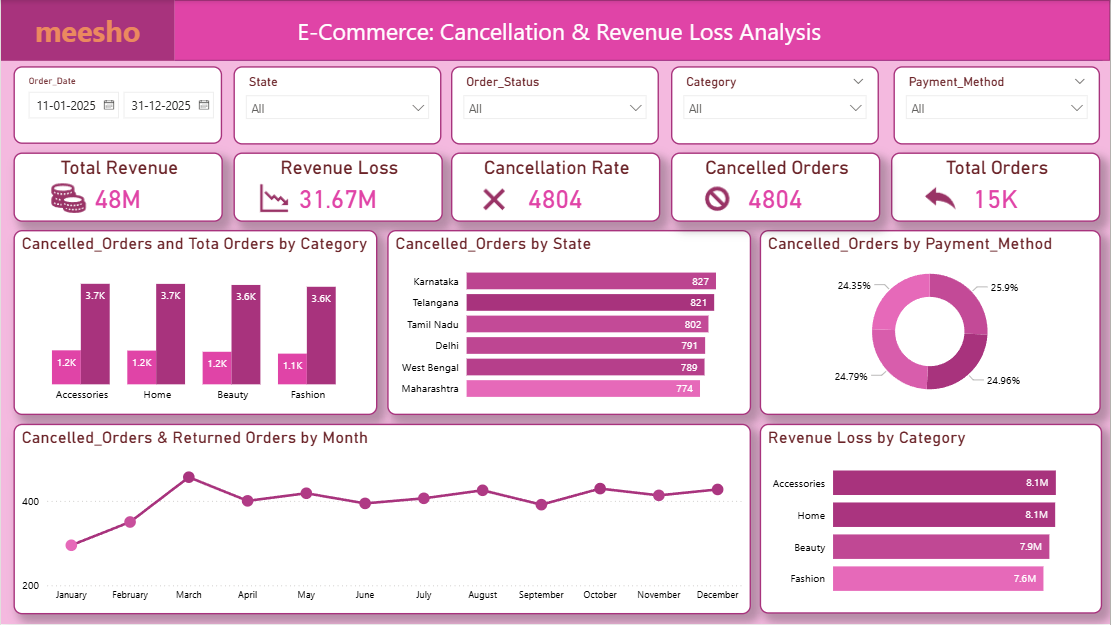

The dashboard page shown, as its layout file describes it:
{"tool":"powerbi","page":{"name":"Page 1","canvas":[1280,720],"ordinal":0},"visuals":[{"type":"card","title":"Total Revenue","fields":{"Values":["meesho.Total Revenue"]},"box":[15,176.2,241.2,80],"z":0},{"type":"card","title":"Revenue Loss","fields":{"Values":["meesho.Revenue Loss"]},"box":[268.8,176.2,241.2,80],"z":1000},{"type":"card","title":"Cancellation Rate","fields":{"Values":["meesho.Cancelled_Orders"]},"box":[520,176.2,241.2,80],"z":2000},{"type":"card","title":"Total Orders","fields":{"Values":["meesho.Tota Orders"]},"box":[1027.5,176.2,241.2,80],"z":3000},{"type":"slicer","fields":{"Values":["meesho.State"]},"box":[268.8,76.2,240,90],"z":4000},{"type":"slicer","fields":{"Values":["meesho.Order_Date"]},"box":[14.4,76.5,240.9,89.5],"z":5000},{"type":"slicer","fields":{"Values":["meesho.Order_Status"]},"box":[520,76.2,240,90],"z":6000},{"type":"slicer","fields":{"Values":["meesho.Payment_Method"]},"box":[1030,76.2,238.8,90],"z":7000},{"type":"clusteredColumnChart","fields":{"Category":["meesho.Category"],"Y":["meesho.Cancelled_Orders","meesho.Tota Orders"]},"box":[14.4,265.5,420,213.5],"z":8000},{"type":"clusteredBarChart","fields":{"Category":["meesho.State"],"Y":["meesho.Cancelled_Orders"]},"box":[445.2,265.4,419.8,213.5],"z":9000},{"type":"lineChart","title":"Cancelled_Orders & Returned Orders by Month","fields":{"Category":["meesho.Order_Date.Variation.Date Hierarchy.Month"],"Y":["meesho.Cancelled_Orders","meesho.Returned Orders"]},"box":[13.8,488.8,851.2,220],"z":10000},{"type":"donutChart","fields":{"Category":["meesho.Payment_Method"],"Y":["meesho.Cancelled_Orders"]},"box":[875.9,265.4,393.3,213.5],"z":11000},{"type":"clusteredBarChart","fields":{"Category":["meesho.Category"],"Y":["meesho.Revenue Loss"]},"box":[875.8,489.1,395.3,219.3],"z":12000},{"type":"card","title":"Cancelled Orders","fields":{"Values":["meesho.Cancelled_Orders"]},"box":[773.8,176.2,241.2,80],"z":13000},{"type":"slicer","fields":{"Values":["meesho.Category"]},"box":[773.8,76.2,240,90],"z":14000},{"type":"shape","box":[0,0,1271.2,70],"z":15000},{"type":"shape","box":[8.8,0,1271.2,70],"z":16000},{"type":"shape","box":[0,0,200,70],"z":17000},{"type":"actionButton","box":[50.5,202,64.9,53.4],"z":18000},{"type":"actionButton","box":[1059,202,50.5,53.4],"z":19000},{"type":"actionButton","box":[548.2,209.2,49.1,41.8],"z":20000},{"type":"actionButton","box":[288.6,202,99.6,53.4],"z":21000},{"type":"actionButton","box":[805.1,207.8,46.2,43.3],"z":22000}]}

Visuals, with their boxes in screenshot pixels (x1, y1, x2, y2), scaled from the page's 1280x720 canvas onto the 1111x625 screenshot:
"Total Revenue" card: (13,153,222,222)
"Revenue Loss" card: (233,153,443,222)
"Cancellation Rate" card: (451,153,661,222)
"Total Orders" card: (892,153,1101,222)
slicer - meesho.State: (233,66,442,144)
slicer - meesho.Order_Date: (12,66,222,144)
slicer - meesho.Order_Status: (451,66,660,144)
slicer - meesho.Payment_Method: (894,66,1101,144)
clusteredColumnChart - meesho.Category x meesho.Cancelled_Orders: (12,230,377,416)
clusteredBarChart - meesho.State x meesho.Cancelled_Orders: (386,230,751,416)
"Cancelled_Orders & Returned Orders by Month" lineChart: (12,424,751,615)
donutChart - meesho.Payment_Method x meesho.Cancelled_Orders: (760,230,1102,416)
clusteredBarChart - meesho.Category x meesho.Revenue Loss: (760,425,1103,615)
"Cancelled Orders" card: (672,153,881,222)
slicer - meesho.Category: (672,66,880,144)
shape: (0,0,1103,61)
shape: (8,0,1110,61)
shape: (0,0,174,61)
actionButton: (44,175,100,222)
actionButton: (919,175,963,222)
actionButton: (476,182,518,218)
actionButton: (250,175,337,222)
actionButton: (699,180,739,218)
